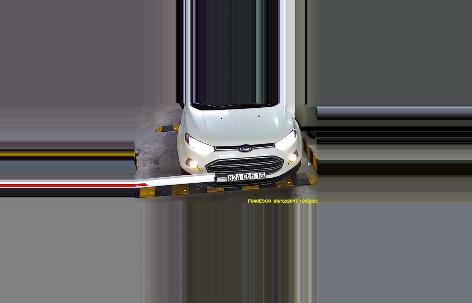plate: (223, 171, 267, 180)
